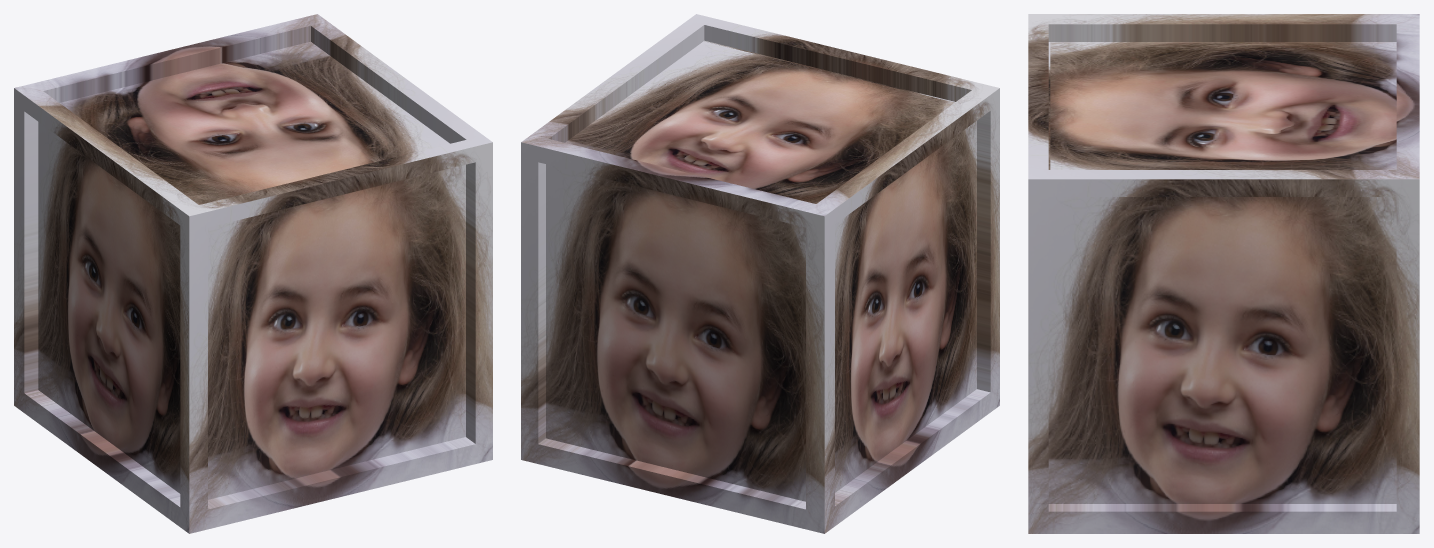
The model's file is senang d.fbx.
3 views of the same model, side by side, from view 1: azimuth 30°, elevation 25°; view 2: azimuth 150°, elevation 25°; view 3: azimuth 270°, elevation 25° (orthographic). The views are drawn at different scales.
Visible parts, largest first — view 1: Cube; view 2: Cube; view 3: Cube.
Boxes of the visible parts, x1=… form: Cube: x1=14, y1=14, x2=492, y2=533; Cube: x1=521, y1=14, x2=999, y2=533; Cube: x1=1028, y1=14, x2=1419, y2=533.
Bounding box in the file's own units: 200 × 200 × 200.
1 material, 1 textured.
